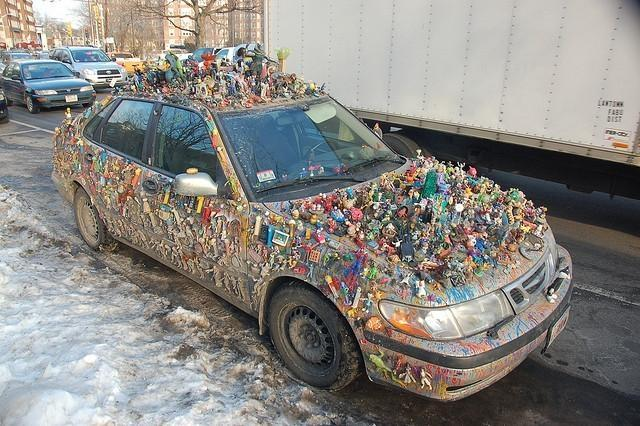car: (51, 46, 574, 402), (1, 58, 98, 114), (46, 44, 126, 88), (3, 53, 34, 65), (158, 52, 194, 62), (194, 48, 223, 54), (40, 50, 51, 60)
truck: (262, 2, 638, 206), (106, 52, 146, 76)
